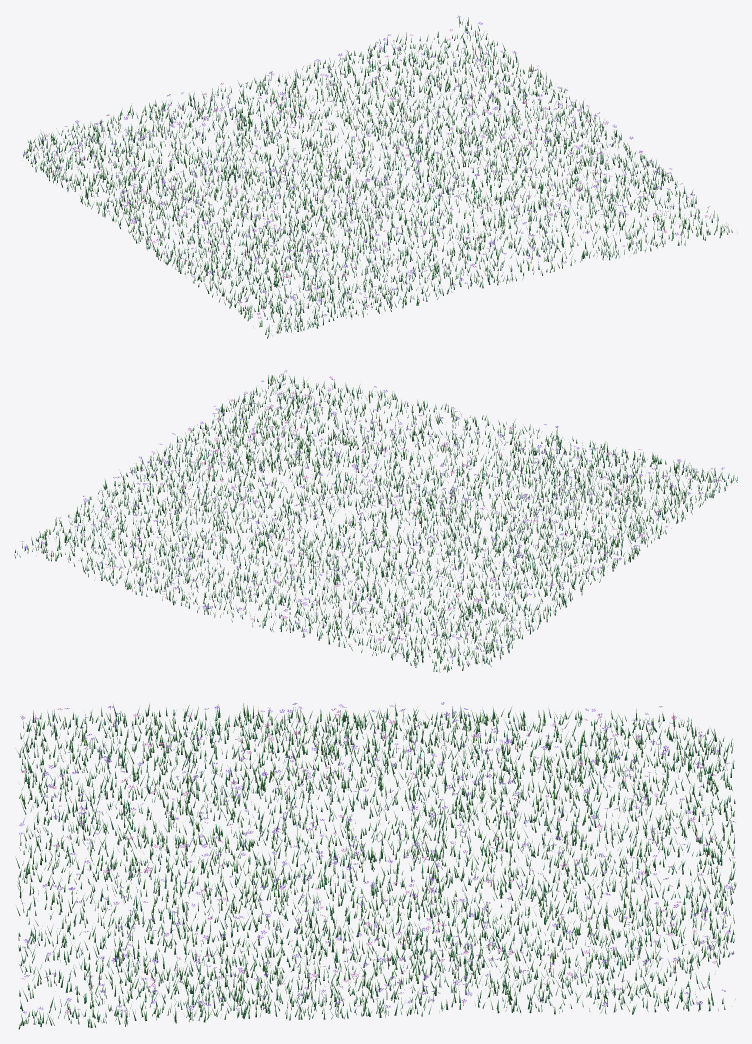
3 renders of one model, top to bottom at view 1: azimuth 30°, elevation 25°; view 2: azimuth 150°, elevation 25°; view 3: azimuth 270°, elevation 25°, orthographic. The views are drawn at different scales.
Visible parts, largest first — view 1: gc_20; view 2: gc_20; view 3: gc_20.
Part boxes in pixels (x1,y1,x2,y2): gc_20: (23,15,732,338); gc_20: (14,370,737,672); gc_20: (15,702,736,1029).
Bounding box in the file's own units: 18.23 × 0.917 × 18.21.
1 material, 1 textured.
